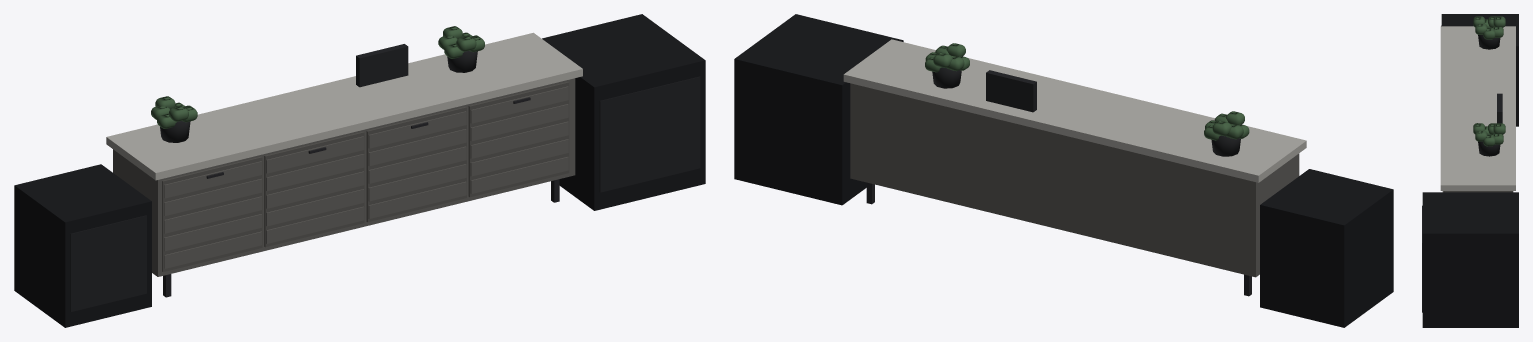
The model's file is Movie_Media_Console.glb.
3 renders of one model, left to right at view 1: azimuth 30°, elevation 25°; view 2: azimuth 150°, elevation 25°; view 3: azimuth 270°, elevation 25°, orthographic. The views are drawn at different scales.
Visible parts, largest first — view 1: root; view 2: root; view 3: root.
Part boxes in pixels (bbox=[...]): root: bbox=[14, 14, 705, 327]; root: bbox=[734, 14, 1393, 327]; root: bbox=[1422, 14, 1518, 327].
Size of the model in its own units: 3.53 by 0.9022 by 0.6194.
